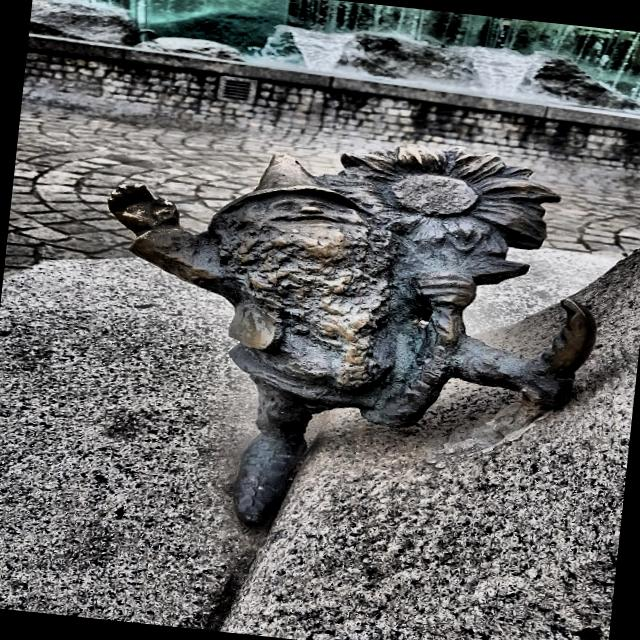Zyczliwek: (110, 145, 595, 522)
